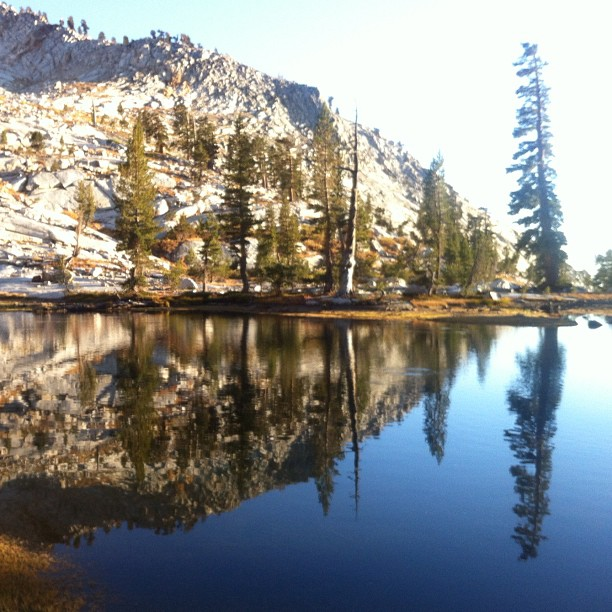mountain: (69, 35, 437, 178)
river: (1, 315, 603, 612)
sky: (284, 6, 612, 145)
vegetation: (110, 55, 584, 311)
